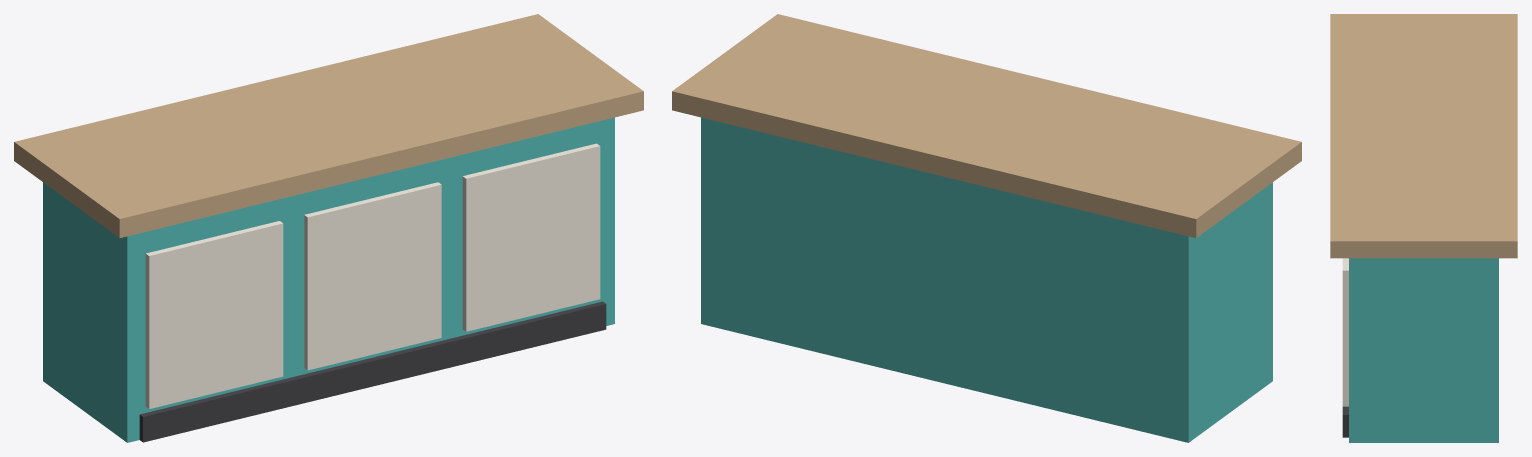
The model's file is cafe_counter.glb.
3 views of the same model, side by side, from view 1: azimuth 30°, elevation 25°; view 2: azimuth 150°, elevation 25°; view 3: azimuth 270°, elevation 25° (orthographic). The views are drawn at different scales.
Parts seen in each view (by area): view 1: CounterTop, CounterBody, Panel_2.6, Panel_-2.6, Panel_0, CounterKick; view 2: CounterBody, CounterTop; view 3: CounterTop, CounterBody, Panel_2.6, CounterKick.
Boxes of the visible parts, x1=… form: CounterTop: x1=14, y1=14, x2=643, y2=238; CounterBody: x1=43, y1=117, x2=614, y2=442; Panel_2.6: x1=462, y1=143, x2=600, y2=331; Panel_-2.6: x1=145, y1=221, x2=283, y2=408; Panel_0: x1=304, y1=182, x2=441, y2=370; CounterKick: x1=139, y1=301, x2=606, y2=442; CounterBody: x1=701, y1=117, x2=1272, y2=442; CounterTop: x1=672, y1=14, x2=1301, y2=238; CounterTop: x1=1330, y1=14, x2=1517, y2=258; CounterBody: x1=1349, y1=258, x2=1498, y2=442; Panel_2.6: x1=1342, y1=258, x2=1348, y2=406; CounterKick: x1=1342, y1=406, x2=1348, y2=437.
Size of the model in its own units: 8.6 by 3.7 by 3.
